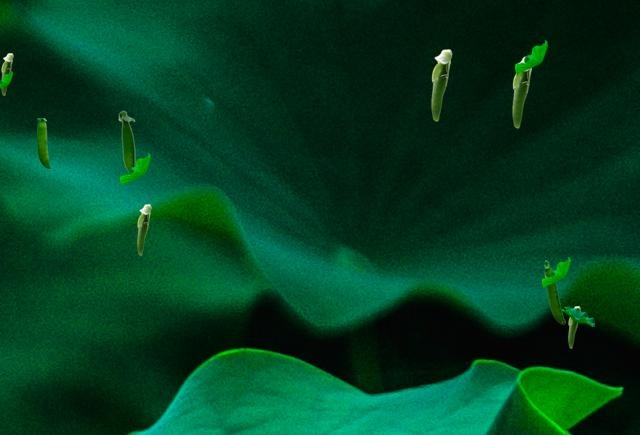pea: (512, 56, 532, 127), (431, 49, 451, 120), (544, 260, 564, 323), (118, 110, 134, 171), (137, 204, 150, 254), (37, 118, 49, 168), (568, 306, 579, 347), (1, 53, 12, 94)
